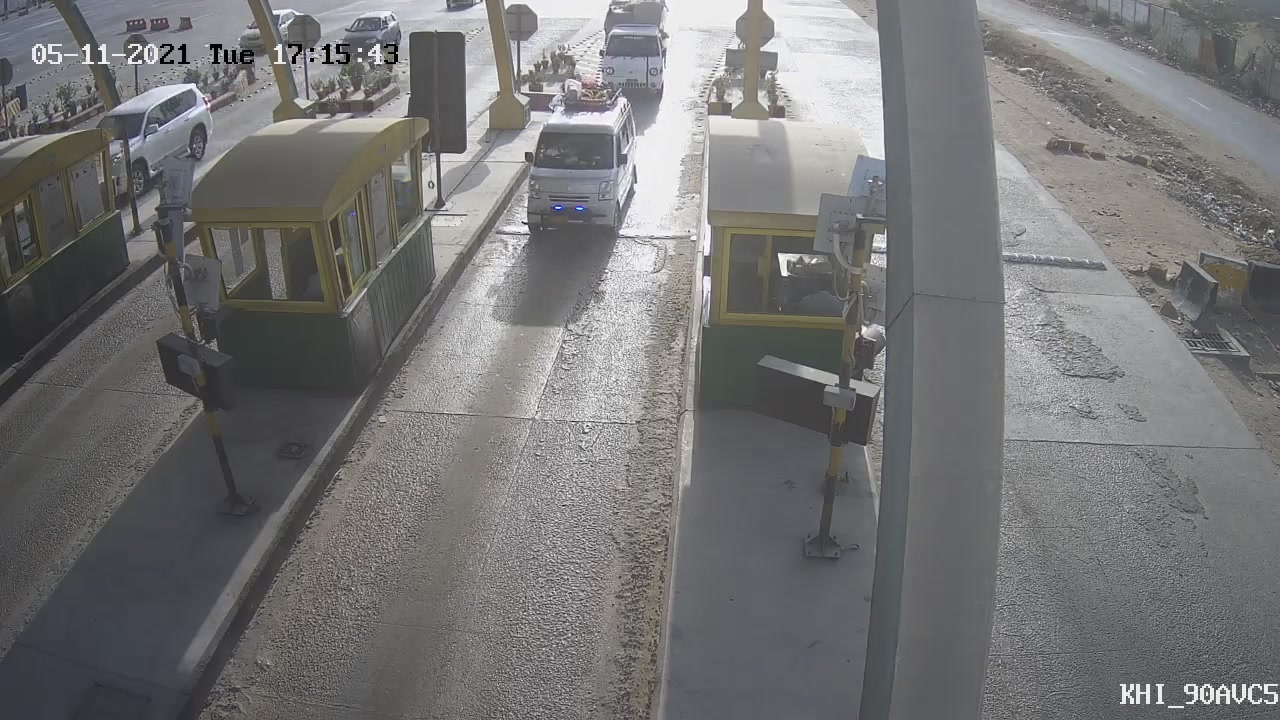F1: (500, 64, 653, 261)
